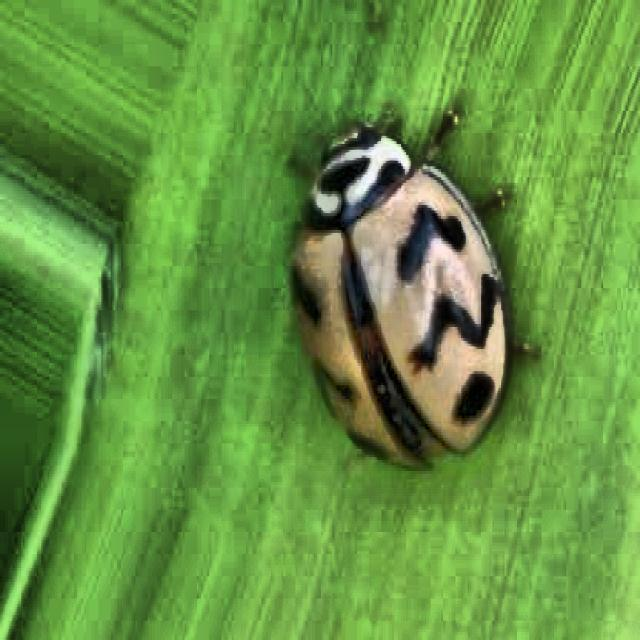Asian-Lady-beetle: (275, 84, 544, 519)
